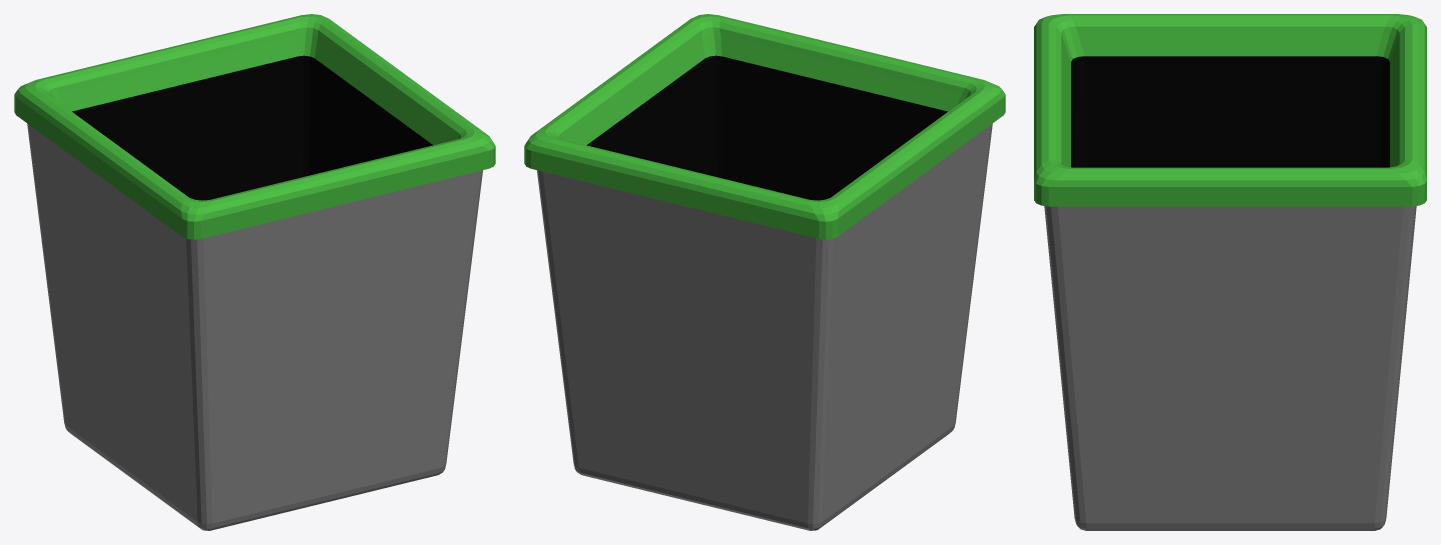
The model's file is Bote.fbx.
3 renders of one model, left to right at view 1: azimuth 30°, elevation 25°; view 2: azimuth 150°, elevation 25°; view 3: azimuth 270°, elevation 25°, orthographic. The views are drawn at different scales.
Visible parts, largest first — view 1: Cubo; view 2: Cubo; view 3: Cubo.
Boxes of the visible parts, x1,y1,x2,y2 form: Cubo: [14, 14, 495, 530]; Cubo: [524, 14, 1005, 530]; Cubo: [1034, 14, 1426, 530].
Bounding box in the file's own units: 0.567 × 0.6 × 0.567.
